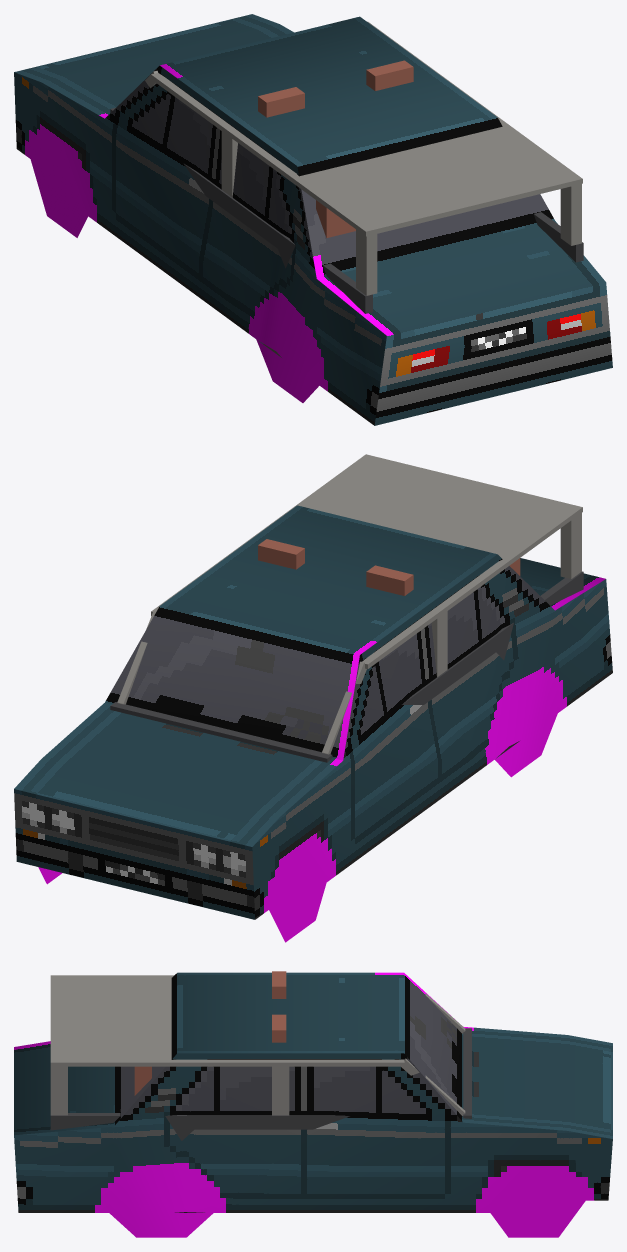
The model's file is klasyka.glb.
3 renders of one model, top to bottom at view 1: azimuth 30°, elevation 25°; view 2: azimuth 150°, elevation 25°; view 3: azimuth 270°, elevation 25°, orthographic. The views are drawn at different scales.
Visible parts, largest first — view 1: body, interior, hood; view 2: body, interior, hood; view 3: body, interior, hood.
Part boxes in pixels (<box>): body: <box>14,16,612,425</box>; interior: <box>110,21,583,313</box>; hood: <box>14,14,293,118</box>; body: <box>14,505,612,942</box>; interior: <box>110,454,583,762</box>; hood: <box>14,702,342,846</box>; body: <box>14,972,612,1237</box>; interior: <box>50,971,471,1140</box>; hood: <box>463,1026,612,1138</box>.
Bounding box in the file's own units: 1.55 × 1.43 × 4.1.
Materials: 8 (1 with a texture image).
